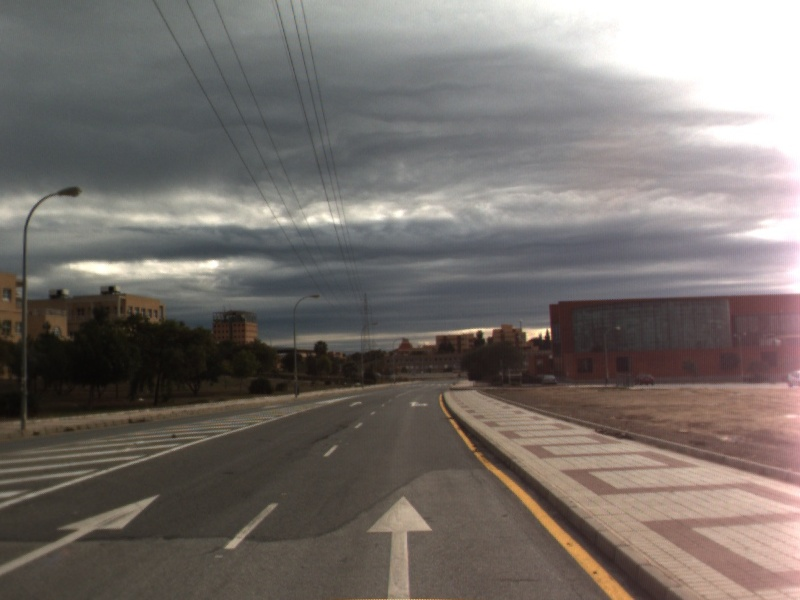STRAIGHT: (1, 493, 163, 576), (364, 493, 435, 600), (348, 400, 364, 408)
STRAIGHT_RIGHT: (407, 399, 431, 409)
